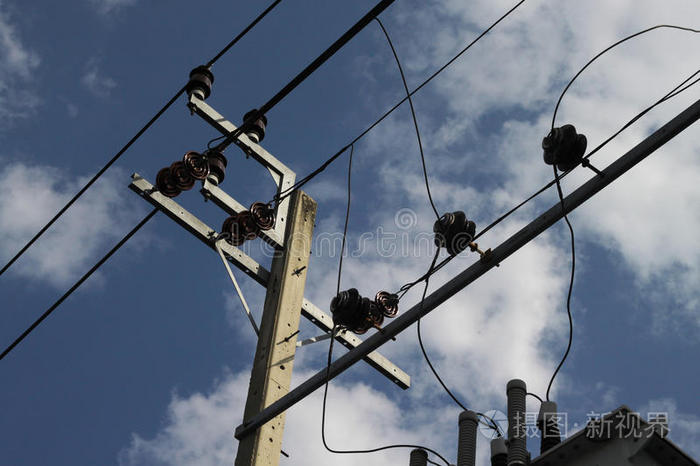insulator: (153, 147, 208, 198), (220, 201, 276, 246), (355, 292, 401, 332)
